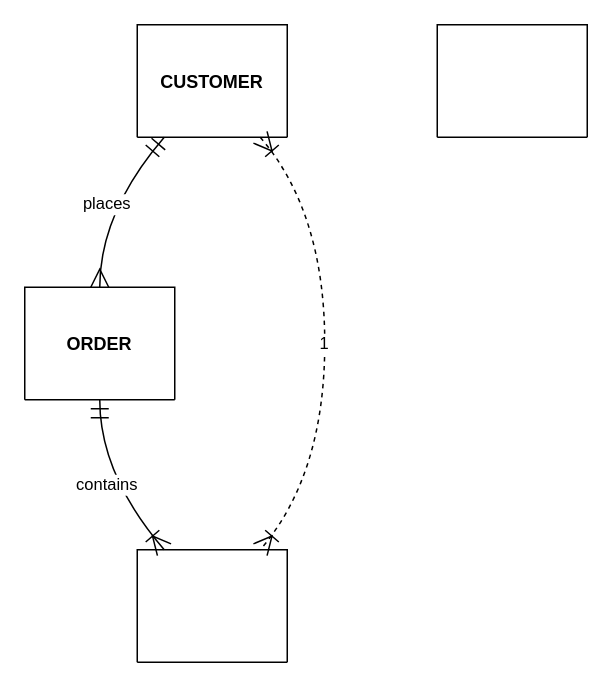
This 612x687 diagram has some shape labels left out. Here are the shapes that lost their labels. From the top down, the centre of each, then its label:
pixel 511 80: selects
pixel 211 605: LINE-ITEM
